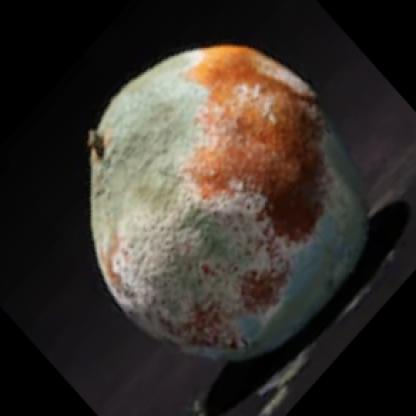rotten: (93, 46, 370, 366)
